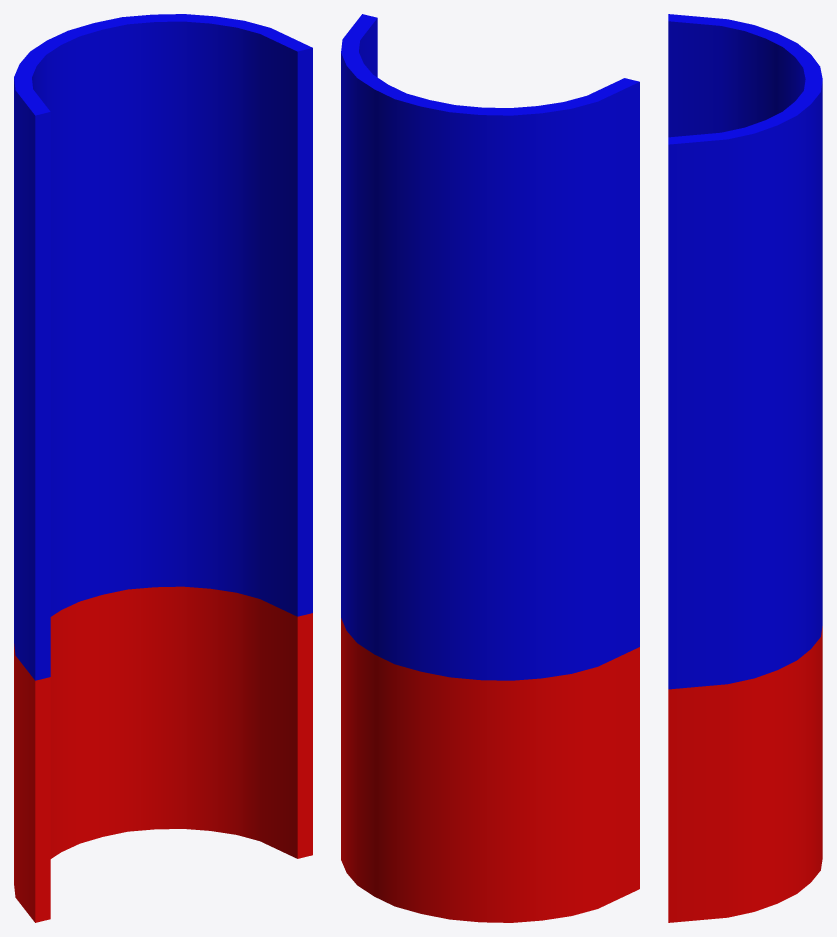
The picture shows the model from 3 angles, left to right: view 1: azimuth 30°, elevation 25°; view 2: azimuth 150°, elevation 25°; view 3: azimuth 270°, elevation 25°; orthographic projection. The views are drawn at different scales.
Visible parts, largest first — view 1: SM_360Lx20Dx1000H_B; view 2: SM_360Lx20Dx1000H_B; view 3: SM_360Lx20Dx1000H_B.
Part boxes in pixels (box(x1,y1,x2,y2)): SM_360Lx20Dx1000H_B: box(14, 14, 312, 922); SM_360Lx20Dx1000H_B: box(341, 14, 639, 922); SM_360Lx20Dx1000H_B: box(668, 14, 822, 922).
Size of the model in its own units: 360 by 1000 by 180.
